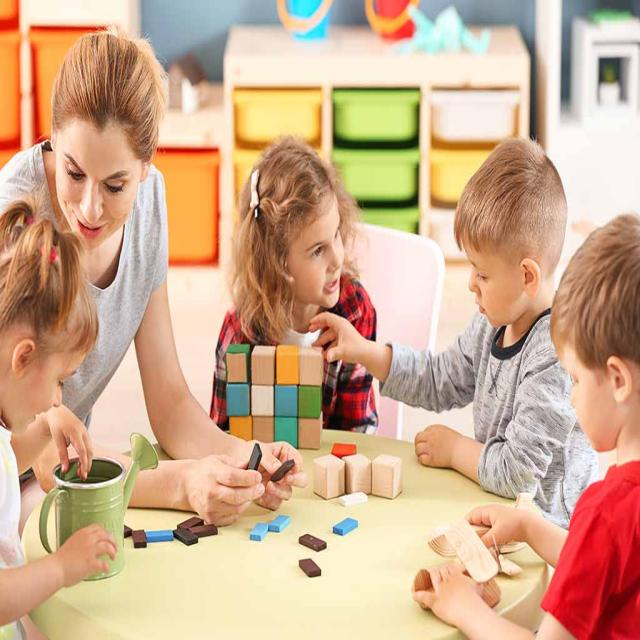adult: (0, 28, 305, 532)
child: (306, 132, 603, 524), (422, 211, 640, 640), (208, 133, 381, 440), (0, 200, 121, 628)
